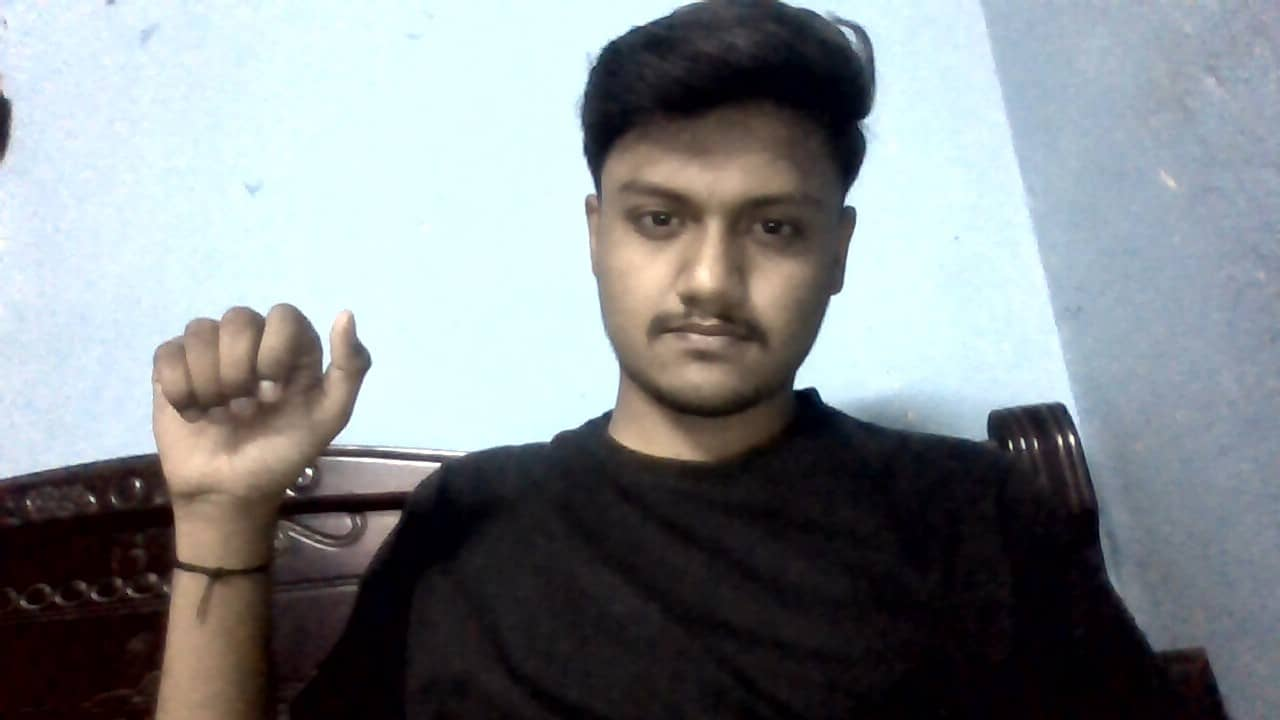hand: (144, 301, 377, 507)
